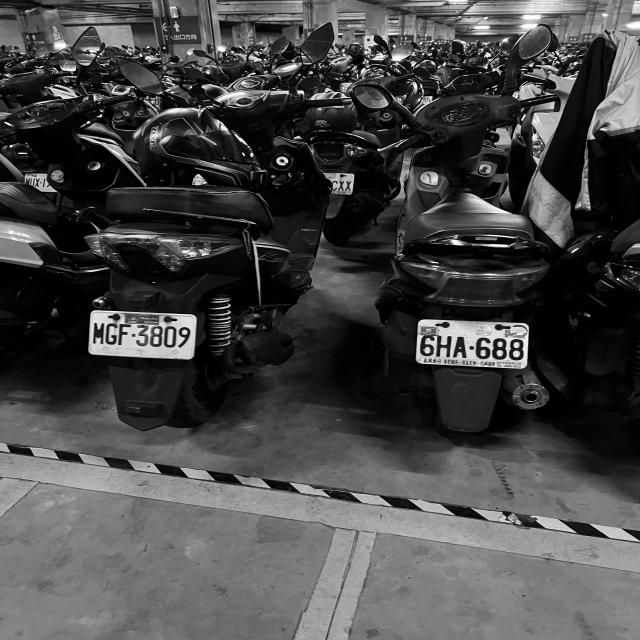-: (130, 331, 136, 338), (468, 344, 475, 350), (40, 182, 41, 184)
0: (164, 326, 176, 347)
1: (42, 178, 46, 188)
3: (136, 324, 150, 347)
6: (419, 333, 435, 357), (476, 338, 492, 360)
8: (491, 338, 509, 360), (509, 338, 524, 361), (150, 325, 162, 347)
9: (178, 327, 190, 348)
A: (453, 336, 468, 359)
C: (331, 181, 338, 191)
F: (118, 322, 131, 346)
G: (476, 337, 490, 359), (105, 322, 117, 346)
H: (436, 335, 452, 358)
M: (92, 321, 104, 345)
X: (344, 180, 352, 192), (338, 180, 344, 191), (35, 178, 40, 187)
plate: (418, 319, 528, 369), (90, 311, 194, 359)
